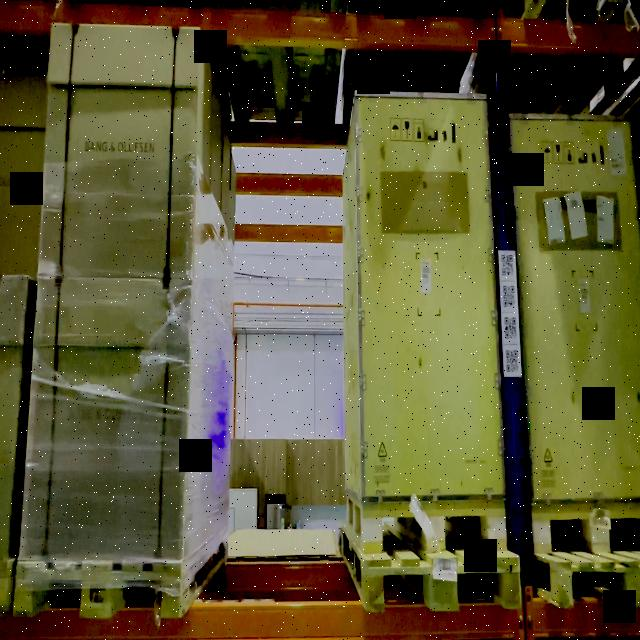box: (355, 93, 509, 503), (20, 280, 191, 559), (39, 23, 201, 278)
